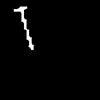half_double_crochet: (14, 7, 33, 49)
